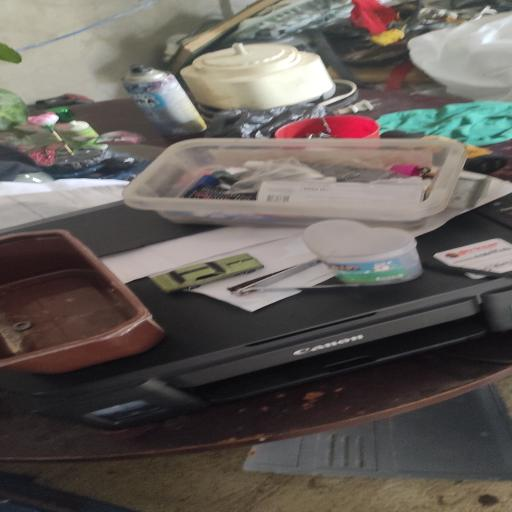Carrito: (151, 253, 264, 292)
